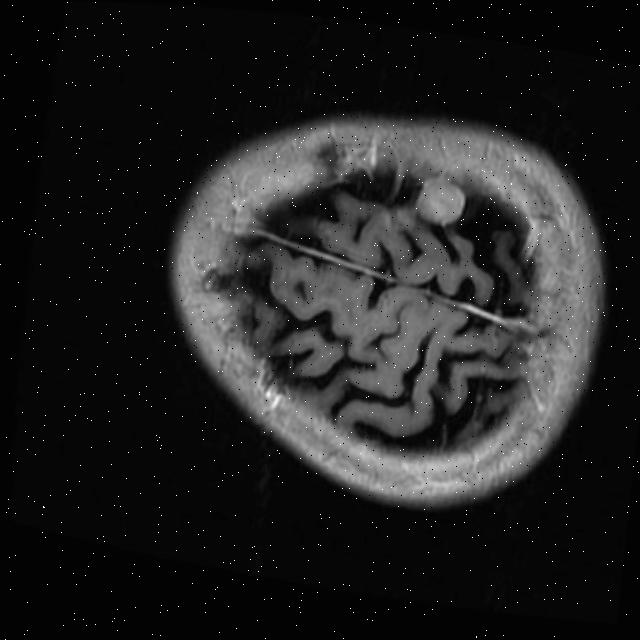Meningioma: (412, 172, 469, 229)
